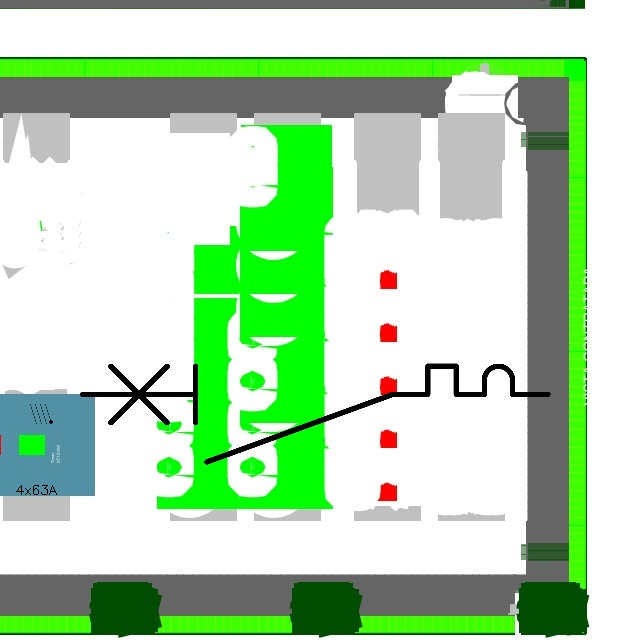interruptor_termomagnetico: (70, 354, 560, 474)
